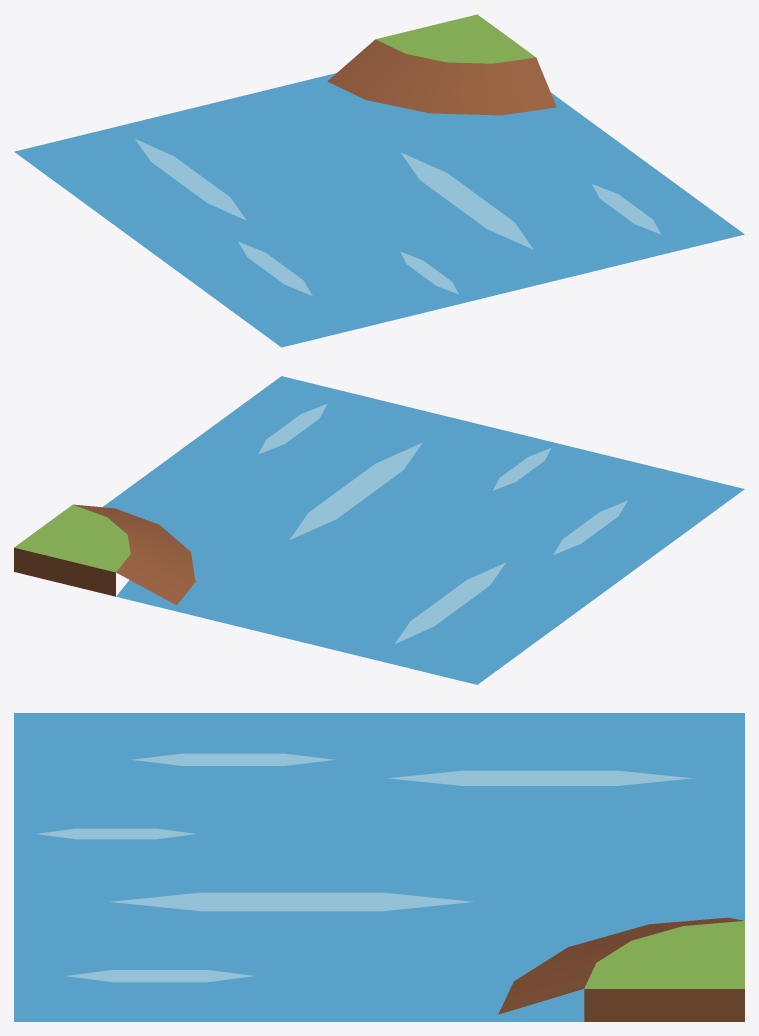
File: water_river_inner.glb
The picture shows the model from 3 angles, top to bottom: view 1: azimuth 30°, elevation 25°; view 2: azimuth 150°, elevation 25°; view 3: azimuth 270°, elevation 25°; orthographic projection. The views are drawn at different scales.
Parts seen in each view (by area): view 1: water_river_inner; view 2: water_river_inner; view 3: water_river_inner.
Boxes of the visible parts, <box> form: water_river_inner: <box>14,14,744,347</box>; water_river_inner: <box>14,376,744,684</box>; water_river_inner: <box>14,713,744,1021</box>.
Bounding box in the file's own units: 1 × 0.05 × 1.
1 material, 1 textured.
